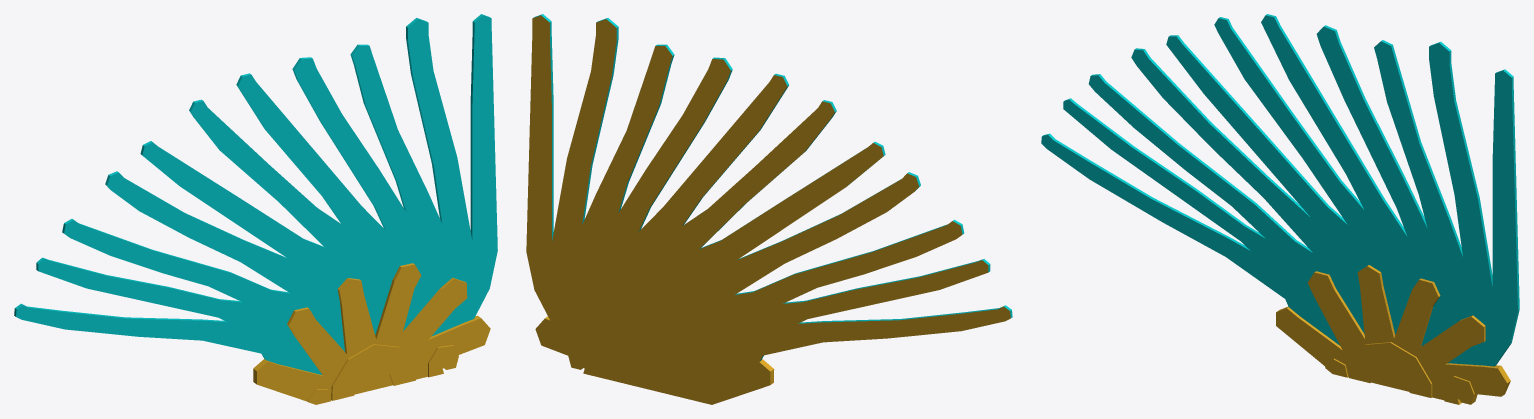
The model's file is Prop_Jungle_Temple_Ornament_Feathers_Plaque_Gold_Gem_01.FBX.
3 renders of one model, left to right at view 1: azimuth 30°, elevation 25°; view 2: azimuth 150°, elevation 25°; view 3: azimuth 330°, elevation 25°, orthographic.
Parts seen in each view (by area): view 1: Prop_Jungle_Temple_Ornament_Feathers_Plaque_Gold_Gem_01; view 2: Prop_Jungle_Temple_Ornament_Feathers_Plaque_Gold_Gem_01; view 3: Prop_Jungle_Temple_Ornament_Feathers_Plaque_Gold_Gem_01.
Boxes of the visible parts, x1=… form: Prop_Jungle_Temple_Ornament_Feathers_Plaque_Gold_Gem_01: x1=14, y1=14, x2=497, y2=404; Prop_Jungle_Temple_Ornament_Feathers_Plaque_Gold_Gem_01: x1=526, y1=14, x2=1012, y2=404; Prop_Jungle_Temple_Ornament_Feathers_Plaque_Gold_Gem_01: x1=1041, y1=14, x2=1519, y2=404.
Bounding box in the file's own units: 2658 × 1888 × 44.43.
